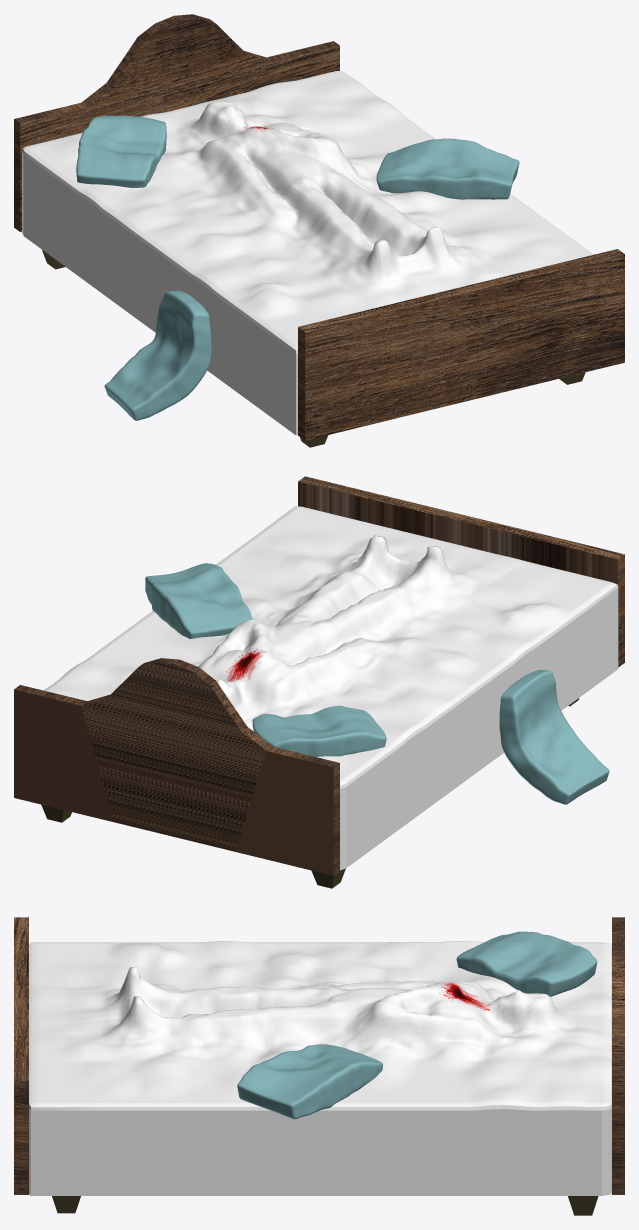
File: bloodbody.fbx
3 renders of one model, top to bottom at view 1: azimuth 30°, elevation 25°; view 2: azimuth 150°, elevation 25°; view 3: azimuth 270°, elevation 25°, orthographic. The views are drawn at different scales.
Parts seen in each view (by area): view 1: polySurface7, polySurface5, polySurface6, pCube12, pCube11, pCube10; view 2: polySurface7, polySurface6, polySurface5, pCube12, pCube11, pCube10; view 3: polySurface7, pCube11, pCube10, polySurface5, polySurface6, polySurface10, polySurface4.
Boxes of the visible parts, <box> form: polySurface7: <box>22,71,593,435</box>; polySurface5: <box>298,249,624,440</box>; polySurface6: <box>14,14,339,231</box>; pCube12: <box>104,290,211,420</box>; pCube11: <box>376,138,519,199</box>; pCube10: <box>76,115,166,187</box>; polySurface7: <box>43,506,618,870</box>; polySurface6: <box>14,658,339,875</box>; polySurface5: <box>298,476,624,667</box>; pCube12: <box>499,670,609,804</box>; pCube11: <box>145,563,252,638</box>; pCube10: <box>252,705,386,756</box>; polySurface7: <box>29,941,611,1195</box>; pCube11: <box>237,1044,382,1119</box>; pCube10: <box>456,931,597,996</box>; polySurface5: <box>14,917,28,1194</box>; polySurface6: <box>612,917,624,1194</box>; polySurface10: <box>568,1196,598,1215</box>; polySurface4: <box>52,1196,80,1213</box>.
Size of the model in its own units: 945 by 434 by 1118.
Materials: 4 (2 with a texture image).
